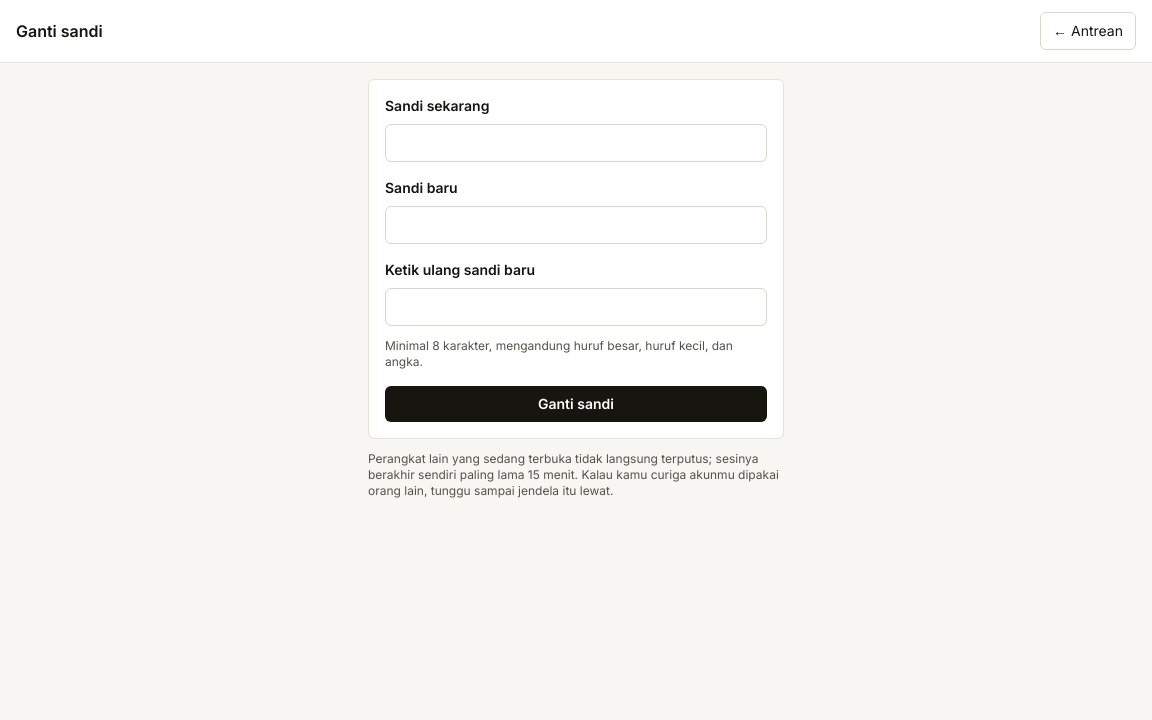
Test case: ganti sandi › isian kosong ditolak tanpa menghubungi server
This screenshot has width=1152, height=720.
What coordinates should you click on to do the following:
click the button "Ganti sandi"
I would click on:
 (576, 404)
Its box is [385,386,767,422].
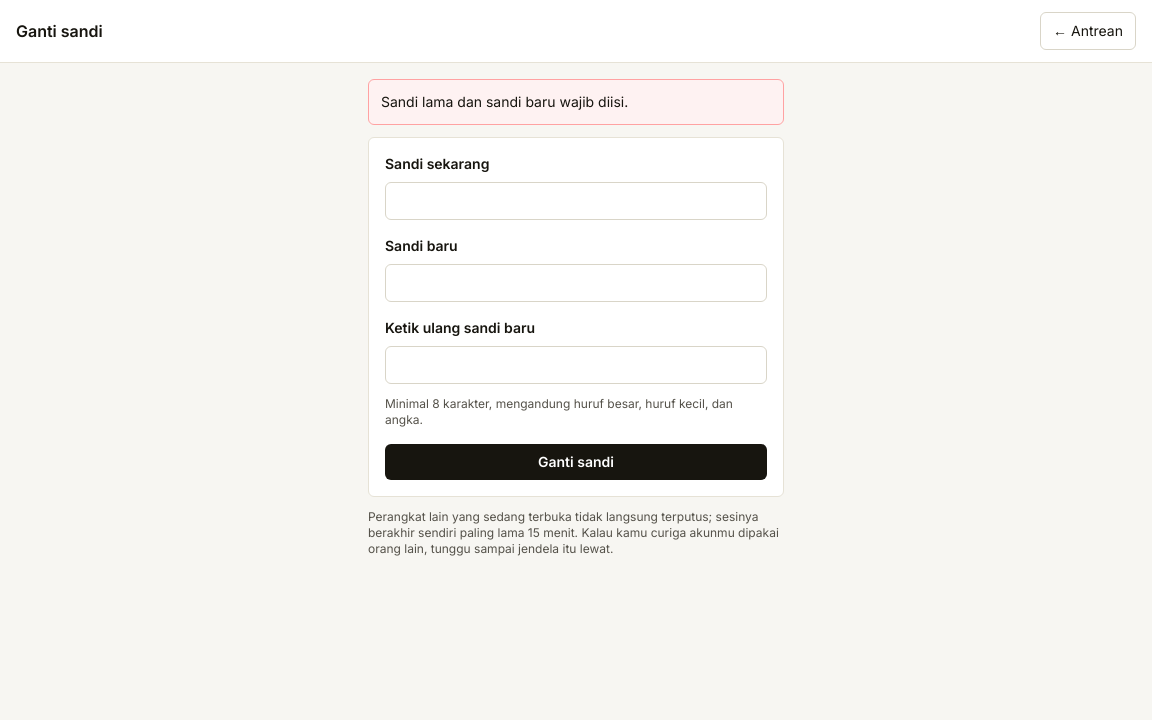
Now the message "Sandi lama dan sandi baru wajib diisi." is shown, box [368,79,784,125]
